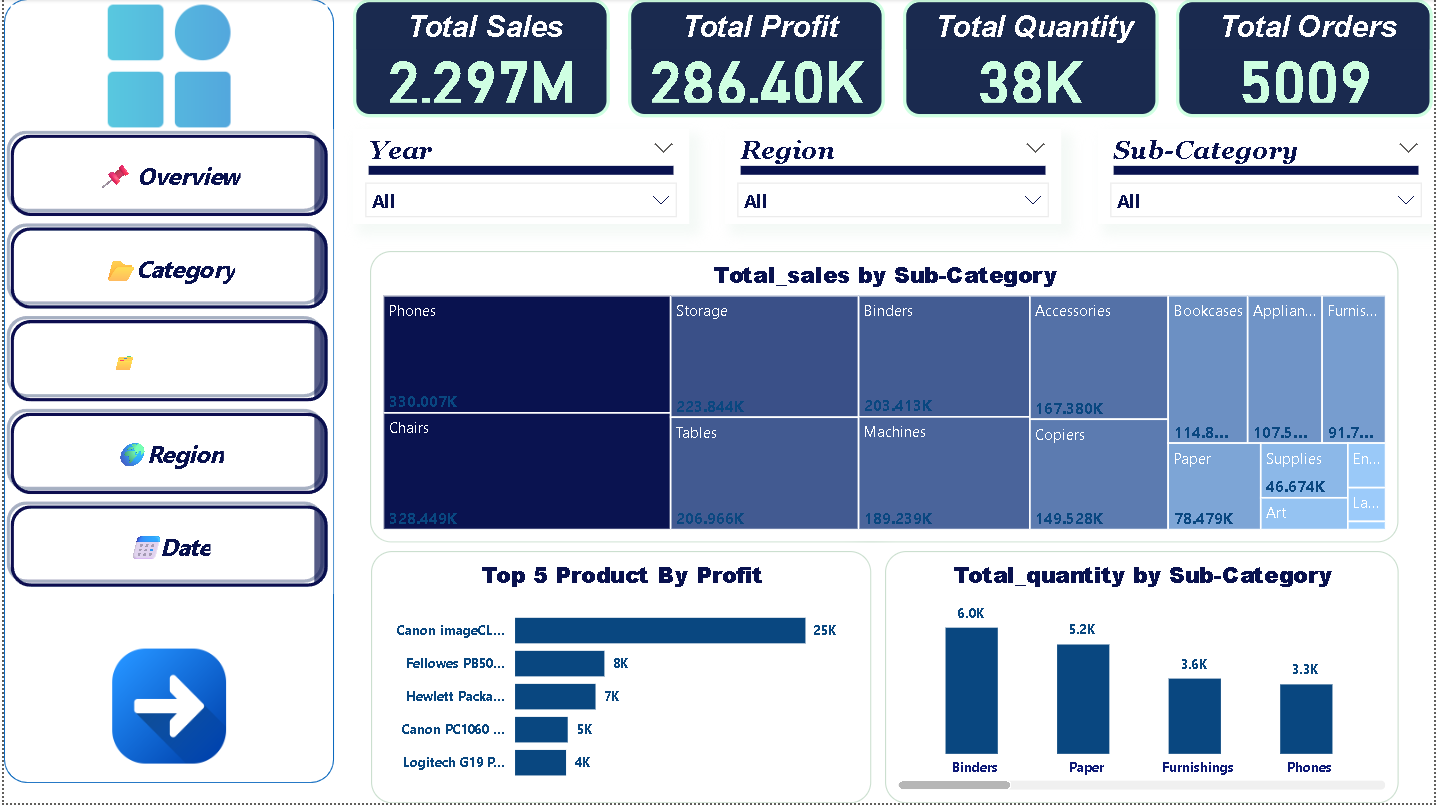

The page's visual inventory and layout, read from the dashboard file:
{"tool":"powerbi","page":{"name":"🗂️Sub Category","canvas":[1280,720],"ordinal":2},"visuals":[{"type":"group","id":"g1","title":"Group 1","box":[0,0,295.6,702.1],"z":0},{"type":"shape","title":"📈","box":[0,0,295.6,702.1],"z":0,"group":"g1"},{"type":"image","box":[0.9,0,294.4,119.7],"z":1000},{"type":"image","box":[0.9,576.4,294.4,112.6],"z":2000},{"type":"card","title":"Total Sales","fields":{"Values":["DAX Measure.Total_sales"]},"box":[312.5,0,230.4,106],"z":3000},{"type":"card","title":"Total Orders","fields":{"Values":["DAX Measure.Total_order"]},"box":[1049.6,0,230.4,106],"z":4000},{"type":"card","title":"Total Profit","fields":{"Values":["DAX Measure.Total_profit"]},"box":[558.6,0,230.4,106],"z":5000},{"type":"card","title":"Total Quantity","fields":{"Values":["DAX Measure.Total_quantity"]},"box":[804.7,0,229.2,106],"z":6000},{"type":"treemap","fields":{"Values":["DAX Measure.Total_sales"],"Group":["ProductDim.Sub-Category Hierarchy.Sub-Category","ProductDim.Sub-Category Hierarchy.Product Name"]},"box":[327.8,225.7,921.5,261.5],"z":7000},{"type":"slicer","fields":{"Values":["DateDim.Order Date.Variation.Date Hierarchy.Year"]},"box":[312.1,116.2,300.6,85.1],"z":8000},{"type":"pageNavigator","box":[1.2,116.4,294.4,416.3],"z":8000,"group":"g1"},{"type":"slicer","fields":{"Values":["CustomerDim.Region"]},"box":[646,116.2,300.6,85.1],"z":9000},{"type":"slicer","fields":{"Values":["ProductDim.Sub-Category"]},"box":[979.4,116.2,300.6,85.1],"z":10000},{"type":"barChart","title":"Top 5 Product By Profit","fields":{"Category":["ProductDim.Product Name"],"Y":["DAX Measure.Total_profit"]},"box":[328.8,494.1,448.4,225.7],"z":11000},{"type":"columnChart","fields":{"Category":["ProductDim.Sub-Category"],"Y":["DAX Measure.Total_quantity"]},"box":[788.8,494.1,460.1,225.7],"z":12000}]}

Visuals, with their boxes in screenshot pixels (x1, y1, x2, y2), scaled from the page's 1280x720 canvas onto the 1436x808 screenshot:
"Group 1" group: locate(0, 0, 332, 788)
"📈" shape: locate(0, 0, 332, 788)
image: locate(1, 0, 331, 134)
image: locate(1, 647, 331, 773)
"Total Sales" card: locate(351, 0, 609, 119)
"Total Orders" card: locate(1178, 0, 1435, 119)
"Total Profit" card: locate(627, 0, 885, 119)
"Total Quantity" card: locate(903, 0, 1160, 119)
treemap - DAX Measure.Total_sales x ProductDim.Sub-Category Hierarchy.Sub-Category: locate(368, 253, 1402, 547)
slicer - DateDim.Order Date.Variation.Date Hierarchy.Year: locate(350, 130, 687, 226)
pageNavigator: locate(1, 131, 332, 598)
slicer - CustomerDim.Region: locate(725, 130, 1062, 226)
slicer - ProductDim.Sub-Category: locate(1099, 130, 1435, 226)
"Top 5 Product By Profit" barChart: locate(369, 554, 872, 807)
columnChart - ProductDim.Sub-Category x DAX Measure.Total_quantity: locate(885, 554, 1401, 807)
